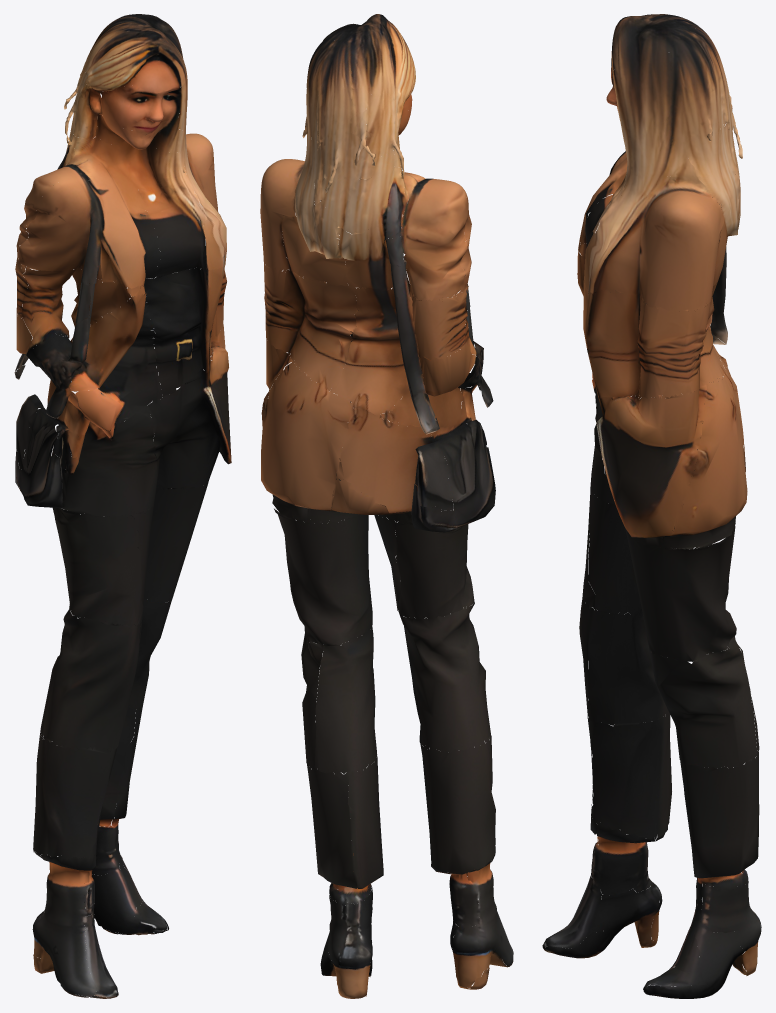
Rendered from catia-25000.glb.
The picture shows the model from 3 angles, left to right: view 1: azimuth 30°, elevation 25°; view 2: azimuth 150°, elevation 25°; view 3: azimuth 270°, elevation 25°; orthographic projection. The views are drawn at different scales.
Visible parts, largest first — view 1: tripo_node_6ca9ce25-2619-43d1-ad54-76d2a85b6c38; view 2: tripo_node_6ca9ce25-2619-43d1-ad54-76d2a85b6c38; view 3: tripo_node_6ca9ce25-2619-43d1-ad54-76d2a85b6c38.
Part boxes in pixels (left/top/right/bottom): tripo_node_6ca9ce25-2619-43d1-ad54-76d2a85b6c38: left=14, top=14, right=231, bottom=998; tripo_node_6ca9ce25-2619-43d1-ad54-76d2a85b6c38: left=260, top=14, right=513, bottom=998; tripo_node_6ca9ce25-2619-43d1-ad54-76d2a85b6c38: left=542, top=14, right=761, bottom=998.
Bounding box in the file's own units: 0.4047 × 1.75 × 0.3558.
Materials: 1 (1 with a texture image).
